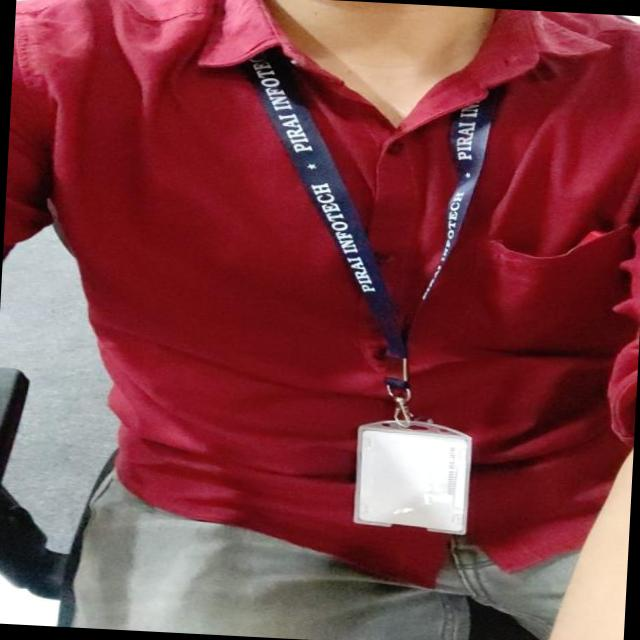id_card: (233, 34, 516, 536)
